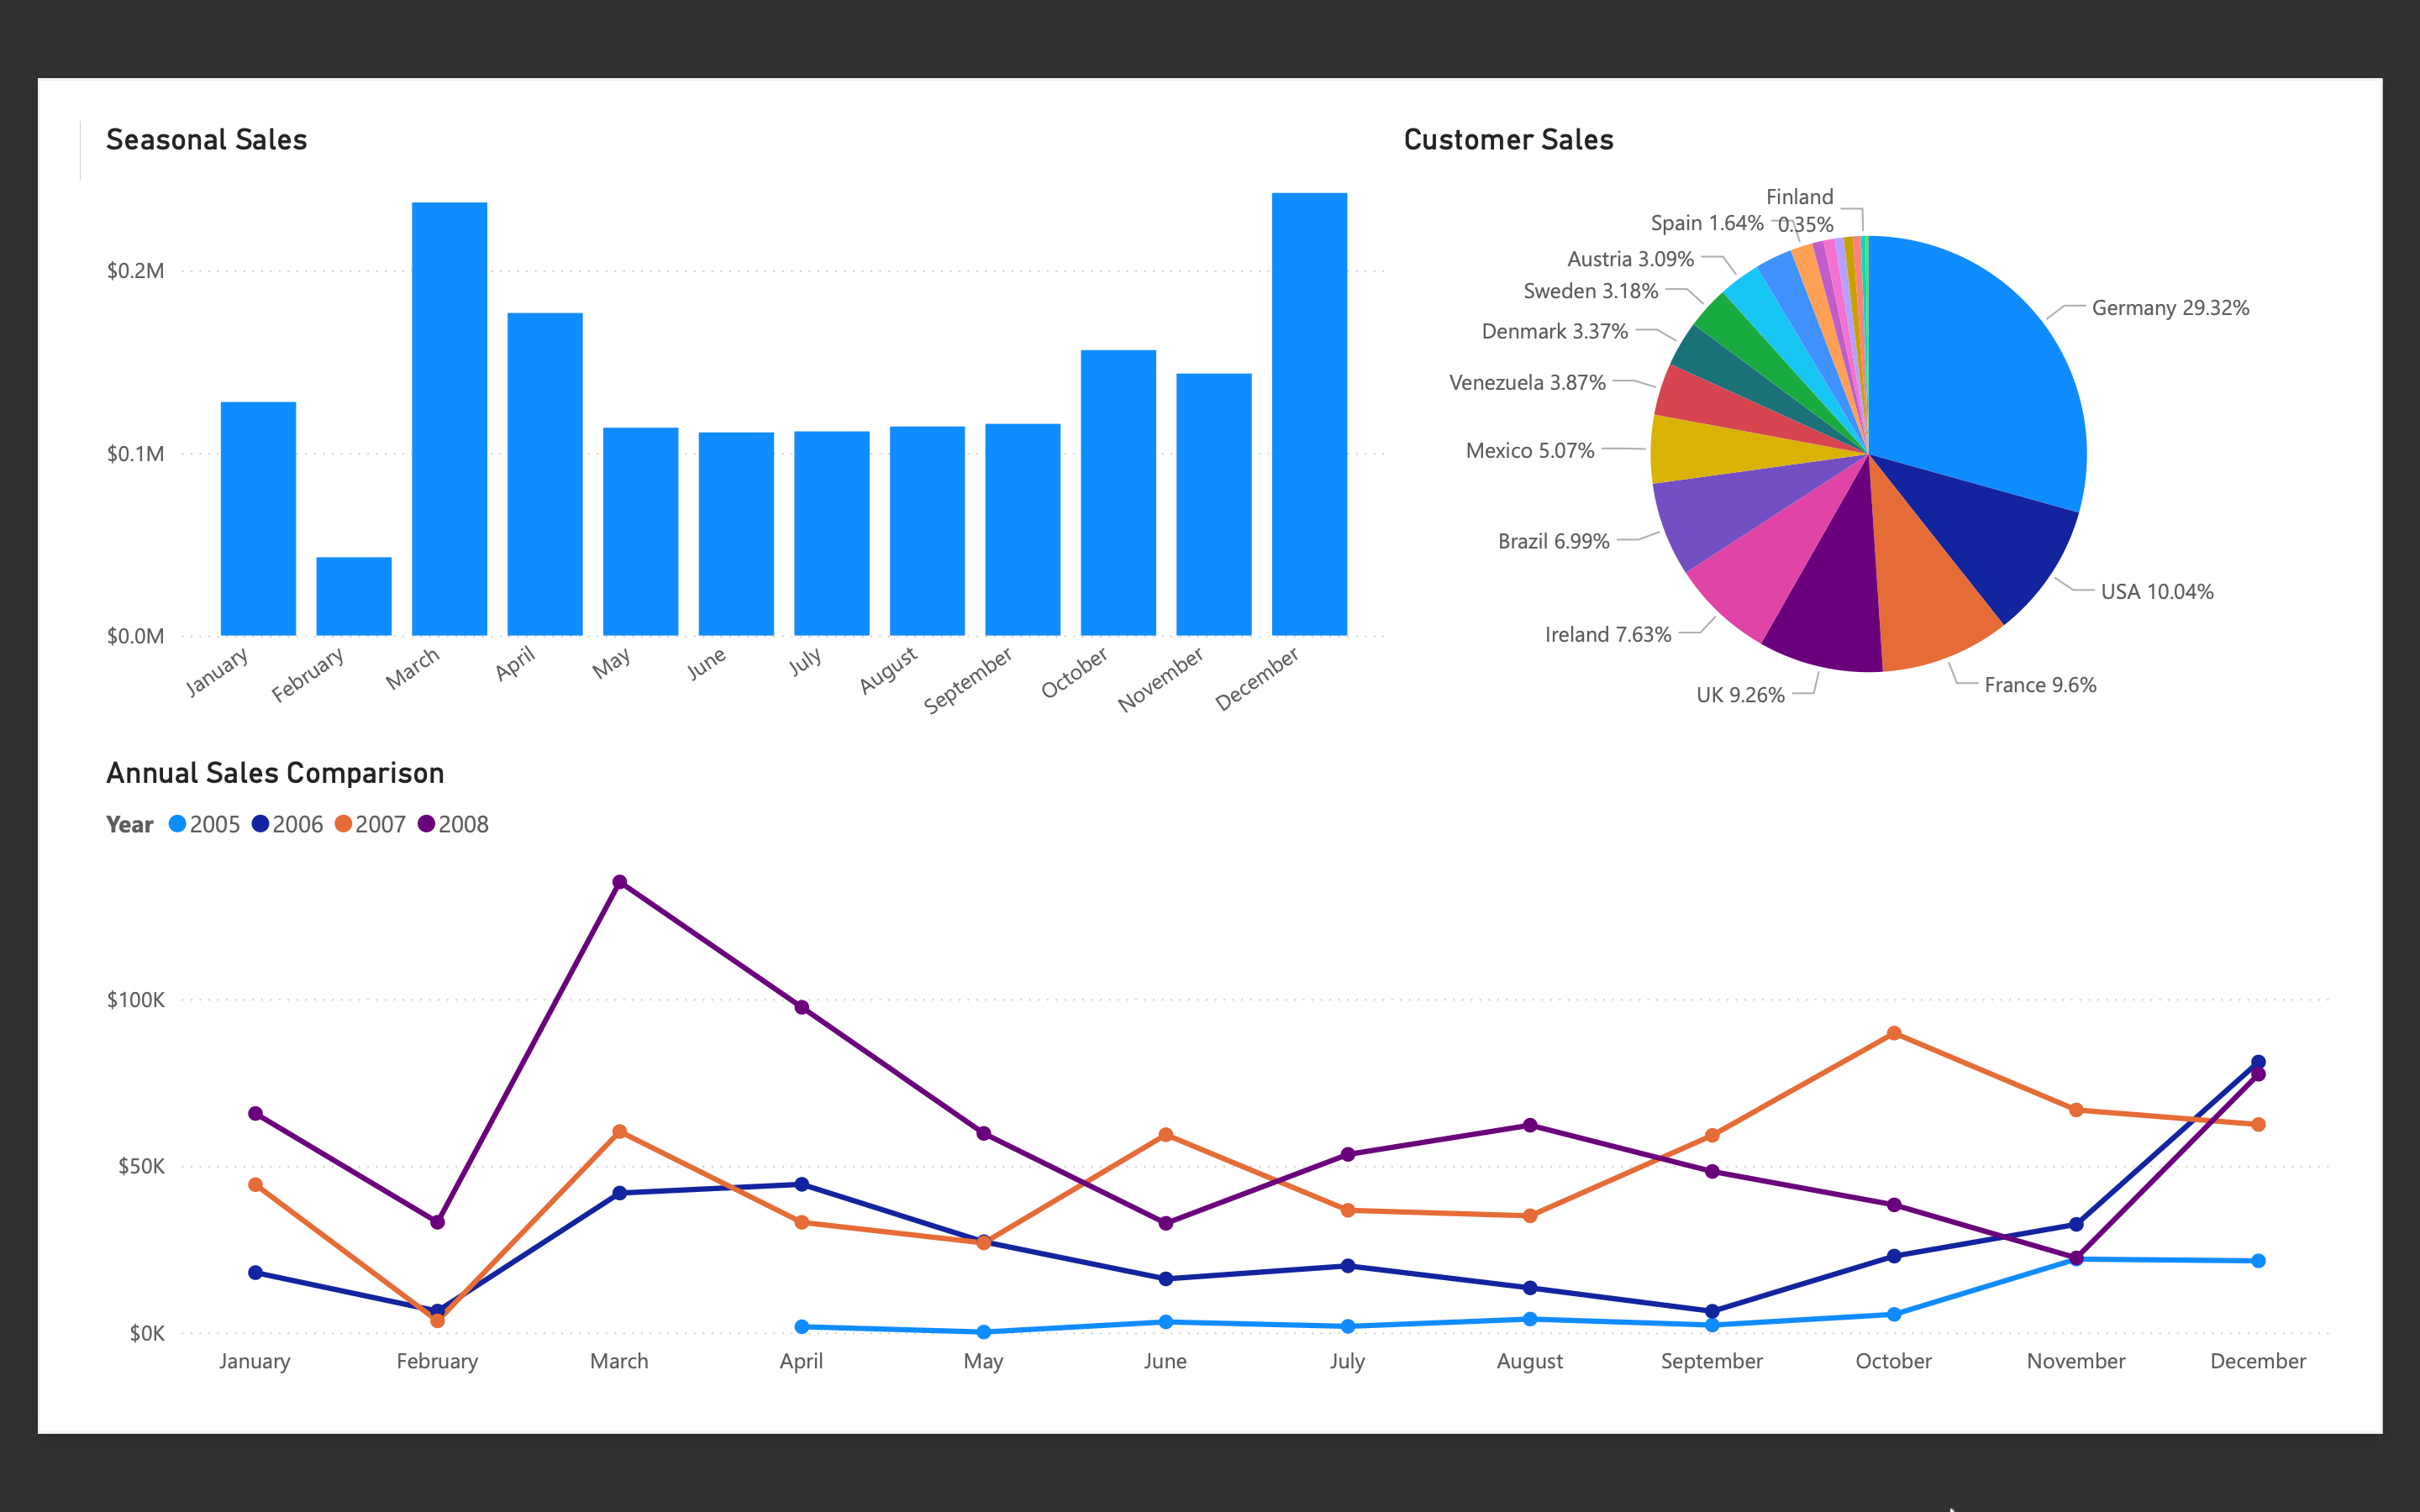

The dashboard page shown, as its layout file describes it:
{"tool":"powerbi","page":{"name":"Dashboard","canvas":[1280,720],"ordinal":0},"visuals":[{"type":"lineChart","title":"Annual Sales Comparison","fields":{"Category":["Orders.Month Name"],"Y":["Sum(Orders.Sales)"],"Series":["Orders.Year"]},"box":[10.2,359.2,1269.8,360.4],"z":0},{"type":"columnChart","title":"Seasonal Sales","fields":{"Category":["Orders.Month Name"],"Y":["Sum(Orders.Sales)"]},"box":[10.2,0,734.9,360.4],"z":1000},{"type":"pieChart","title":"Customer Sales","fields":{"Category":["Customers.CustomerCountry"],"Y":["Sum(Orders.Sales)"]},"box":[745.1,0,535.4,358.9],"z":2000}]}

Visuals, with their boxes on the page's 1280x720 design canvas (x1, y1, x2, y2). These are canvas units, not pixel positions in the 2420x1512 screenshot, which may show the page scaled, cropped or inside an application window:
"Annual Sales Comparison" lineChart: x1=10 y1=359 x2=1280 y2=720
"Seasonal Sales" columnChart: x1=10 y1=0 x2=745 y2=360
"Customer Sales" pieChart: x1=745 y1=0 x2=1280 y2=359
